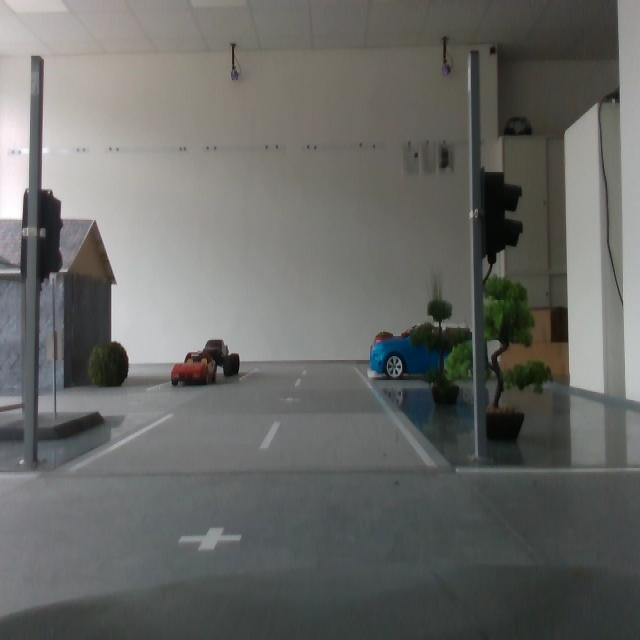car: (371, 325, 492, 379), (369, 322, 472, 380), (171, 352, 220, 392), (197, 338, 243, 380)
potted plant: (445, 274, 557, 442), (410, 297, 471, 409), (88, 341, 131, 391), (431, 272, 445, 357), (372, 330, 398, 364)
traffic light: (480, 168, 524, 265), (20, 188, 64, 284)
